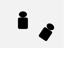human: (37, 21, 55, 42), (16, 10, 30, 29)
